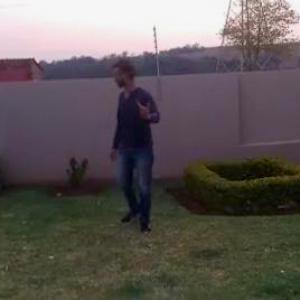takeoff-hand: (133, 93, 159, 121)
